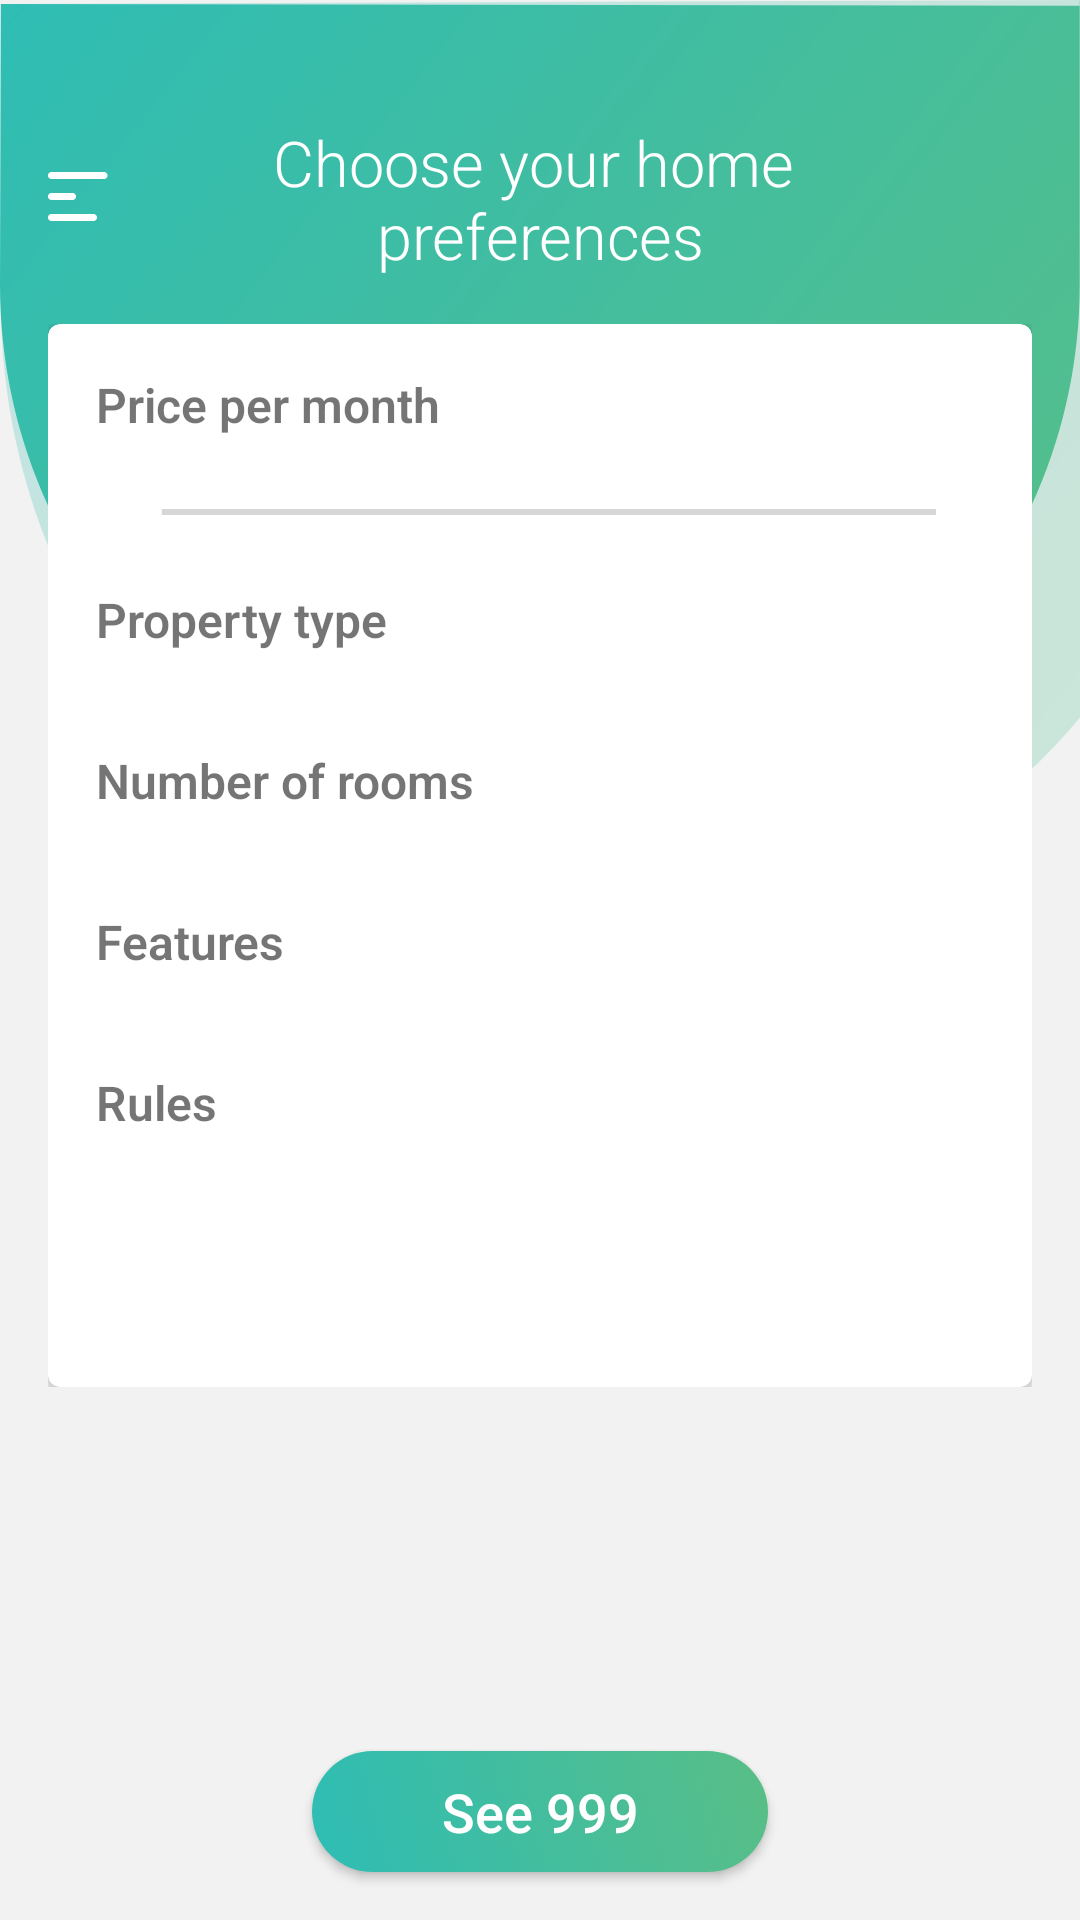

Icons on this 1080 x 1920 Android screen, each with its box as (x1=x1, y1=y1, x2=x2, y2=y2):
menu: (x1=48, y1=172, x2=108, y2=221)
